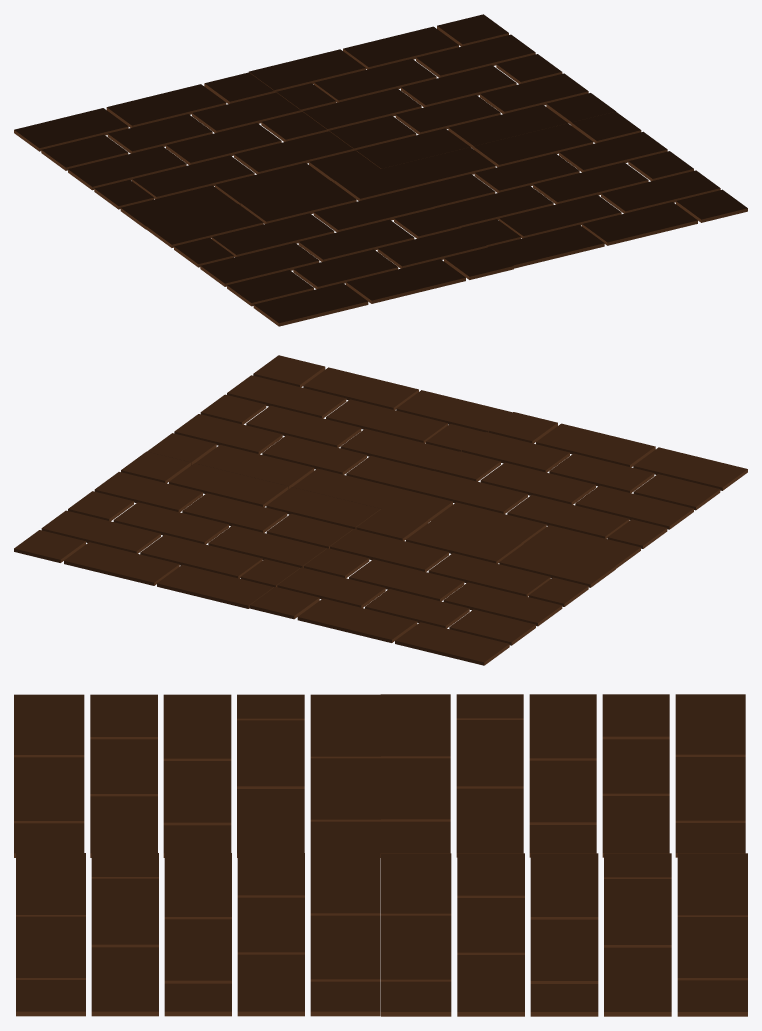
Rendered from Floor 6.fbx.
3 views of the same model, one above another, from view 1: azimuth 30°, elevation 25°; view 2: azimuth 150°, elevation 25°; view 3: azimuth 270°, elevation 25° (orthographic). The views are drawn at different scales.
Parts seen in each view (by area): view 1: Node 0; view 2: Node 0; view 3: Node 0.
Boxes of the visible parts, x1,y1,x2,y2 form: Node 0: (14,14,747,326); Node 0: (14,355,747,665); Node 0: (14,694,747,1016).
Bounding box in the file's own units: 4.99 × 0.0349 × 5.11.
